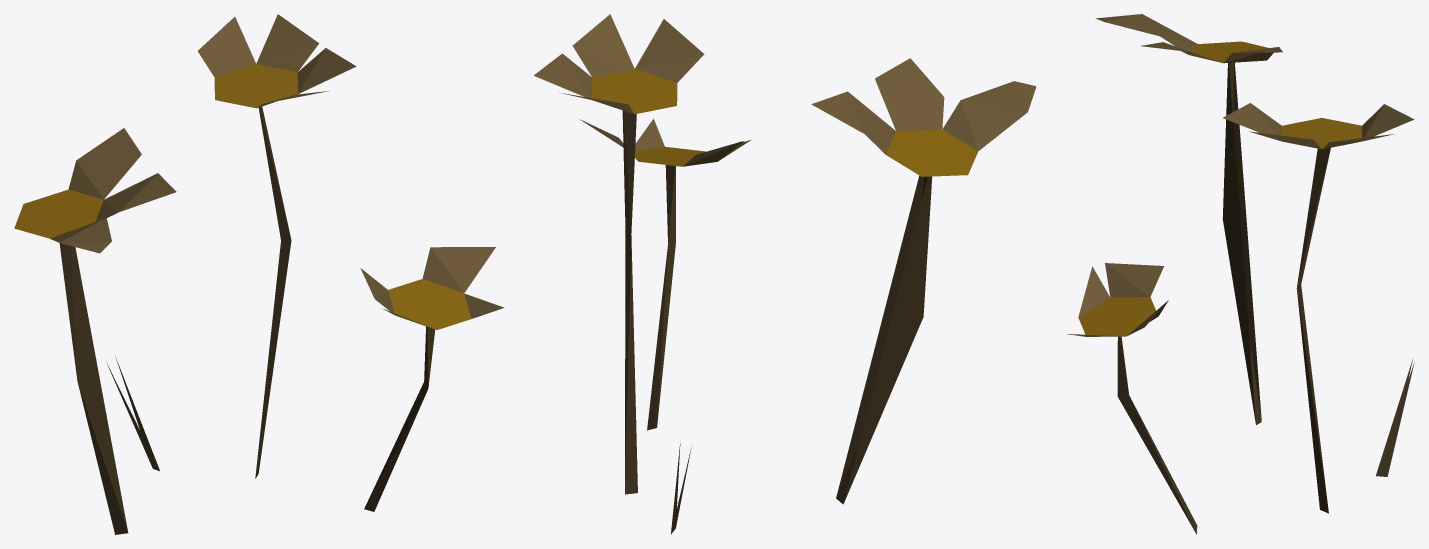
Rendered from DeadFlowers1.fbx.
The picture shows the model from 3 angles, left to right: view 1: azimuth 30°, elevation 25°; view 2: azimuth 150°, elevation 25°; view 3: azimuth 270°, elevation 25°; orthographic projection. The views are drawn at different scales.
Visible parts, largest first — view 1: Cylinder.006; view 2: Cylinder.006; view 3: Cylinder.006.
Part boxes in pixels (left/top/right/bottom): Cylinder.006: left=14, top=14, right=504, bottom=534; Cylinder.006: left=534, top=14, right=1036, bottom=534; Cylinder.006: left=1067, top=14, right=1414, bottom=534.
Size of the model in its own units: 0.5378 by 0.498 by 0.3866.
